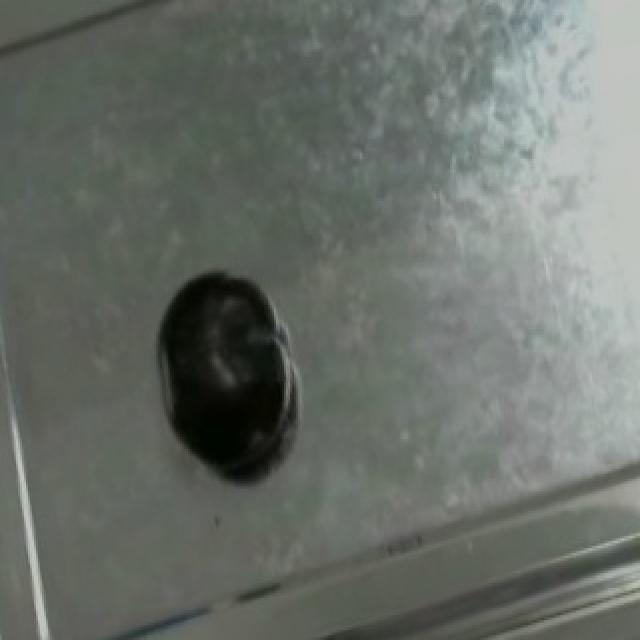Fruit: (148, 260, 296, 469)
